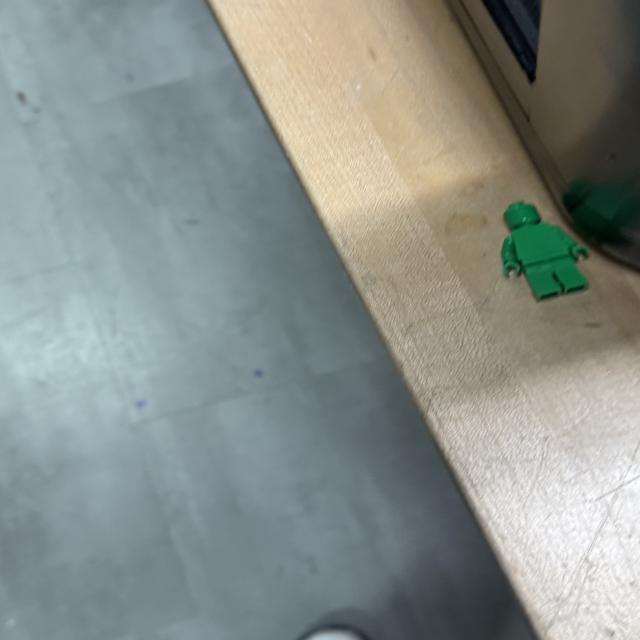Green Mini Figure: (501, 201, 590, 301)
